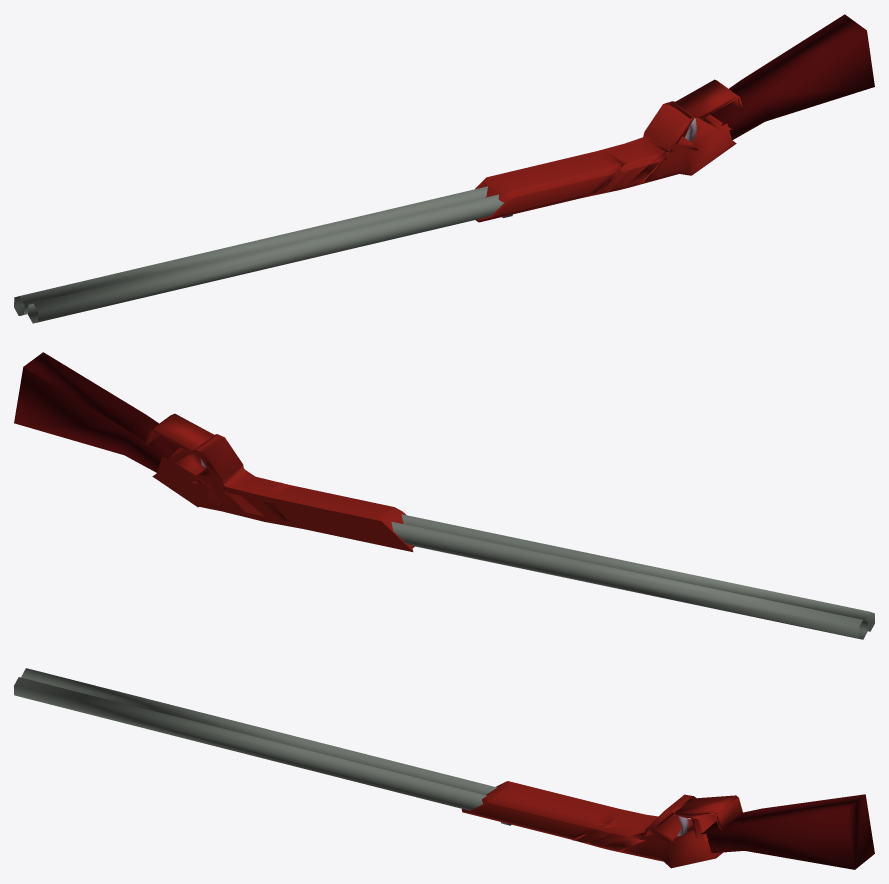
The model's file is DoubleBarrel 1.fbx.
The picture shows the model from 3 angles, top to bottom: view 1: azimuth 30°, elevation 25°; view 2: azimuth 150°, elevation 25°; view 3: azimuth 330°, elevation 25°; orthographic projection. The views are drawn at different scales.
Parts seen in each view (by area): view 1: Cube.003; view 2: Cube.003; view 3: Cube.003.
Part boxes in pixels (x1=…): Cube.003: x1=14, y1=14, x2=874, y2=323; Cube.003: x1=14, y1=352, x2=874, y2=639; Cube.003: x1=14, y1=668, x2=874, y2=869.
Size of the model in its own units: 1475 by 175 by 96.82.
